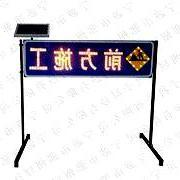sign: (23, 41, 153, 77)
